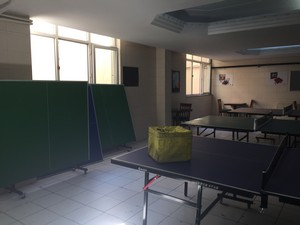cube: (146, 125, 194, 163)
